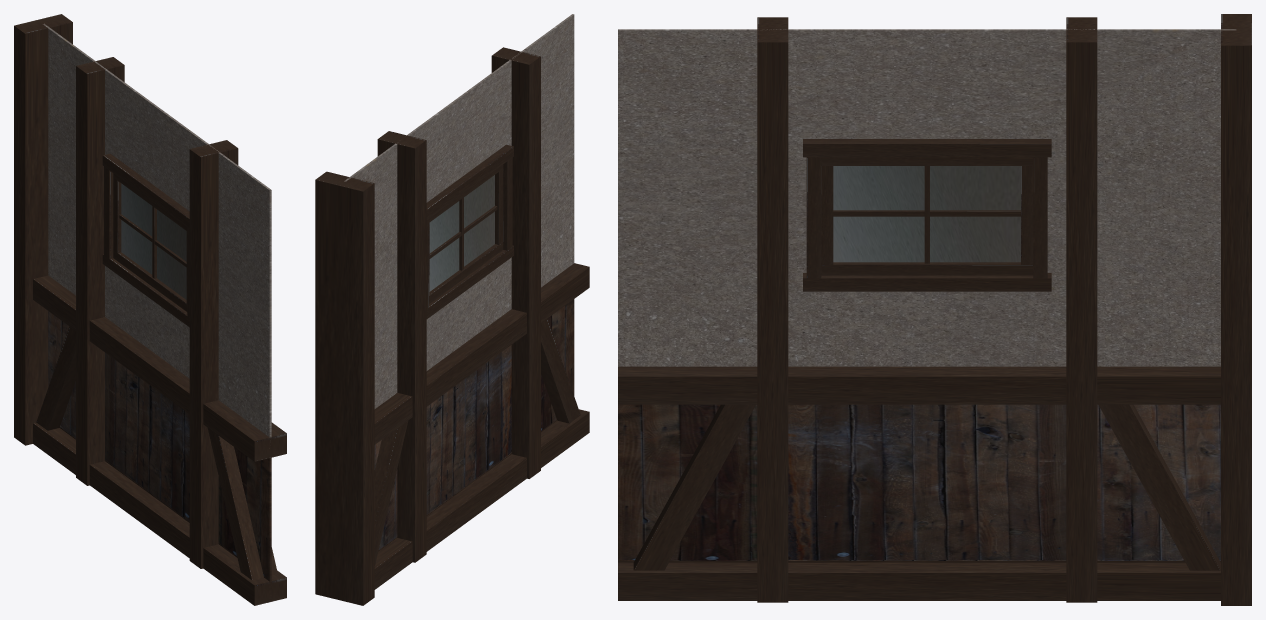
The model's file is OutdoorArchitecture_BasicWall01_Window03_RightEdge_BShortt.fbx.
3 renders of one model, left to right at view 1: azimuth 30°, elevation 25°; view 2: azimuth 150°, elevation 25°; view 3: azimuth 270°, elevation 25°, orthographic. The views are drawn at different scales.
Visible parts, largest first — view 1: OutdoorArchitecture_BasicWall01_Window03_RightEdge_BShortt; view 2: OutdoorArchitecture_BasicWall01_Window03_RightEdge_BShortt; view 3: OutdoorArchitecture_BasicWall01_Window03_RightEdge_BShortt.
Boxes of the visible parts, <box> form: OutdoorArchitecture_BasicWall01_Window03_RightEdge_BShortt: <box>14,14,286,605</box>; OutdoorArchitecture_BasicWall01_Window03_RightEdge_BShortt: <box>315,14,589,605</box>; OutdoorArchitecture_BasicWall01_Window03_RightEdge_BShortt: <box>618,14,1251,605</box>.
Bounding box in the file's own units: 36.37 × 300 × 308.
